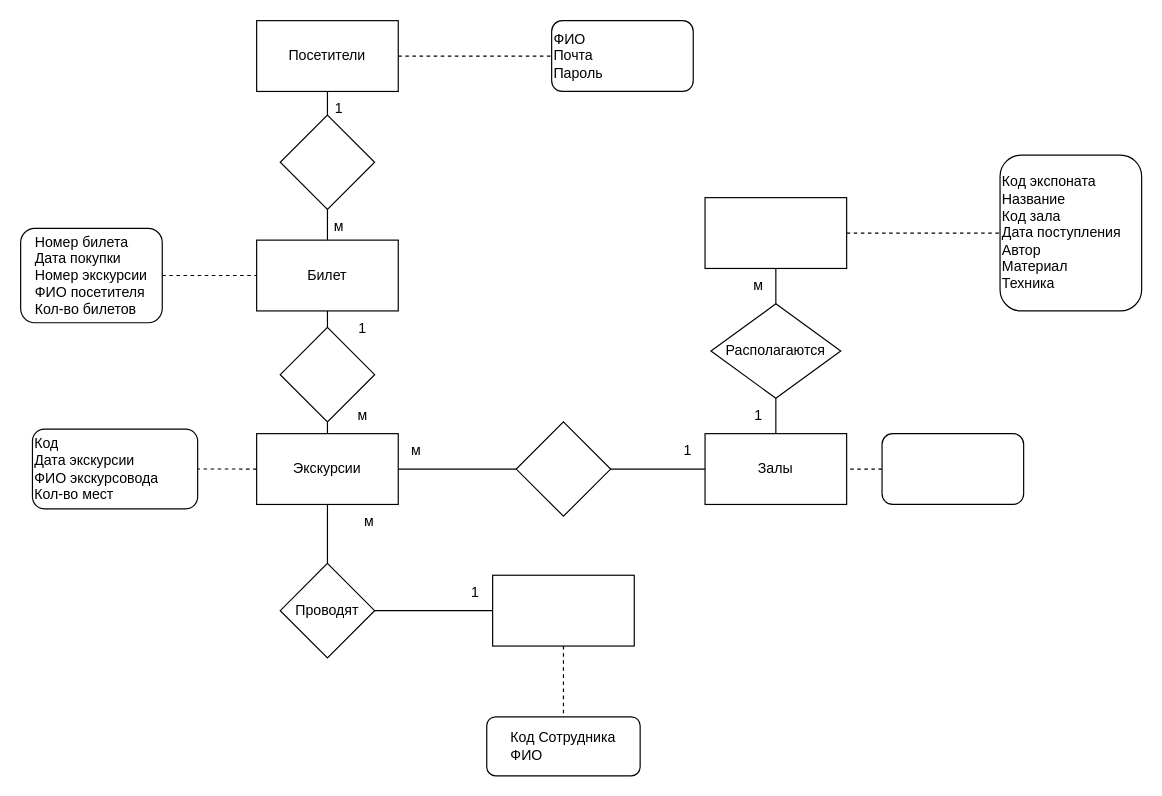
The diagram is 1162 pixels wide and 796 high, and some of its shapes have lost their labels. The shapes that lost their labels are listed below. From the top down, each one's box as (x1, y1, x2, y2) in pixels, then its label:
(279, 114, 375, 209): Покупают
(704, 196, 847, 268): Экспонаты
(279, 326, 375, 422): Допускает
(515, 421, 611, 516): Проводятся
(881, 432, 1024, 504): Код зала Номер зала
(491, 574, 634, 646): Сотрудники
